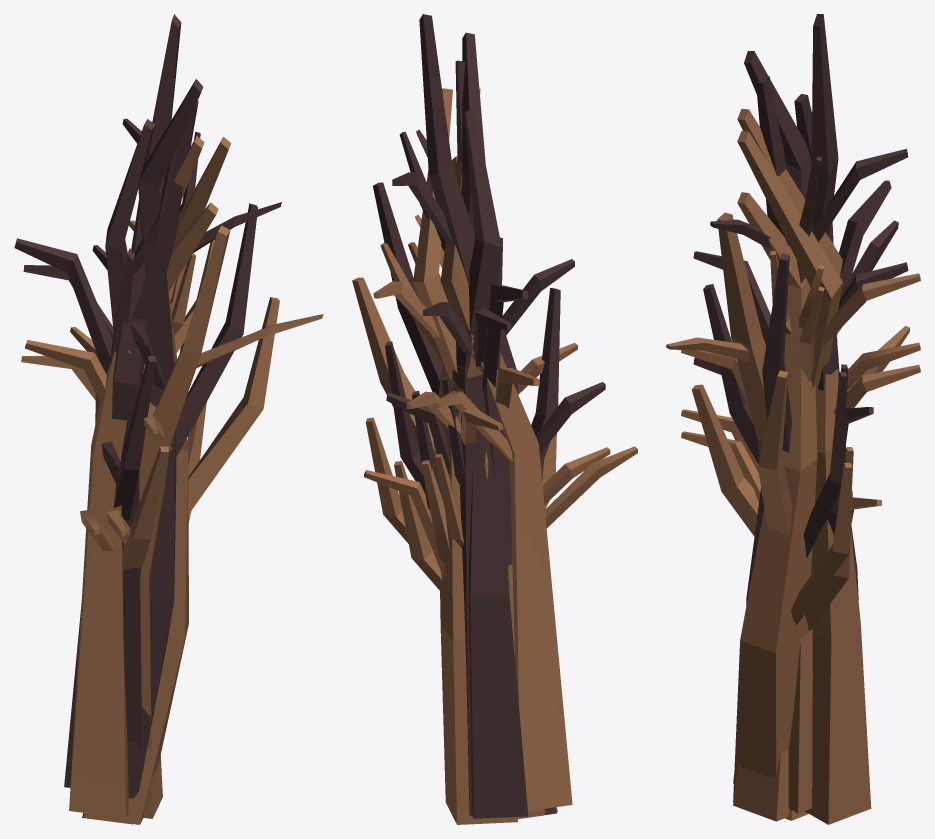
The model's file is Tree_G.fbx.
The picture shows the model from 3 angles, left to right: view 1: azimuth 30°, elevation 25°; view 2: azimuth 150°, elevation 25°; view 3: azimuth 270°, elevation 25°; orthographic projection. The views are drawn at different scales.
Visible parts, largest first — view 1: Tree_Brown_01, Tree_red_01, Tree_Brown_02, Tree_red_03, Tree_Brown_05, Tree_red_04, Tree_red_05, Tree_Brown_03, Tree_Brown_06, Tree_red_02; view 2: Tree_Brown_01, Tree_red_04, Tree_red_05, Tree_Brown_06, Tree_red_03, Tree_red_01, Tree_Brown_03, Tree_Brown_02, Tree_red_02, Tree_Brown_04, Tree_Brown_05; view 3: Tree_Brown_02, Tree_Brown_06, Tree_Brown_03, Tree_red_01, Tree_Brown_05, Tree_red_03, Tree_red_05, Tree_red_04, Tree_Brown_01.
Boxes of the visible parts, box(x1,y1,x2,y2) form: Tree_Brown_01: box(69, 136, 204, 818); Tree_red_01: box(82, 79, 257, 824); Tree_Brown_02: box(83, 202, 279, 824); Tree_red_03: box(92, 14, 200, 748); Tree_Brown_05: box(25, 225, 323, 576); Tree_red_04: box(14, 101, 281, 787); Tree_red_05: box(23, 119, 177, 520); Tree_Brown_03: box(106, 137, 231, 818); Tree_Brown_06: box(21, 253, 195, 572); Tree_red_02: box(109, 248, 134, 365); Tree_Brown_01: box(408, 88, 637, 811); Tree_red_04: box(416, 60, 528, 818); Tree_red_05: box(386, 107, 560, 815); Tree_Brown_06: box(364, 339, 556, 824); Tree_red_03: box(399, 14, 605, 509); Tree_red_01: box(373, 32, 574, 814); Tree_Brown_03: box(380, 88, 610, 590); Tree_Brown_02: box(352, 156, 577, 811); Tree_red_02: box(442, 237, 512, 565); Tree_Brown_04: box(435, 452, 544, 818); Tree_Brown_05: box(415, 215, 539, 408); Tree_Brown_02: box(681, 192, 920, 801); Tree_Brown_06: box(691, 251, 909, 824); Tree_Brown_03: box(681, 131, 920, 821); Tree_red_01: box(693, 51, 908, 604); Tree_Brown_05: box(666, 212, 841, 813); Tree_red_03: box(693, 14, 908, 535); Tree_red_05: box(703, 94, 898, 542); Tree_red_04: box(710, 75, 891, 600); Tree_Brown_01: box(681, 108, 920, 783).
Bounding box in the file's own units: 199 × 628 × 175.
